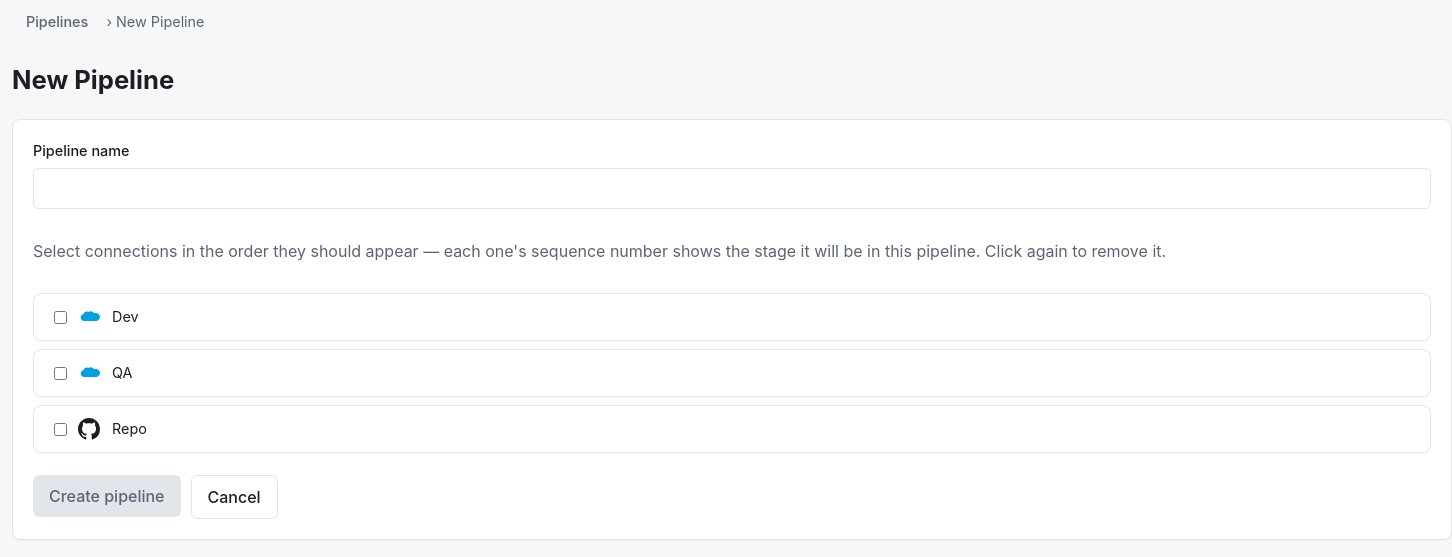
NewPipeline page › disables creation until a name is entered and at least two connections are picked
Expected: the checkbox labelled "Dev" is shown, [54,311,67,324]
Expected: the button "Create pipeline" is disabled, [33,475,180,517]
Type "Main" into the field labelled "Pipeline name" at (732, 188), box [33,168,1431,209]
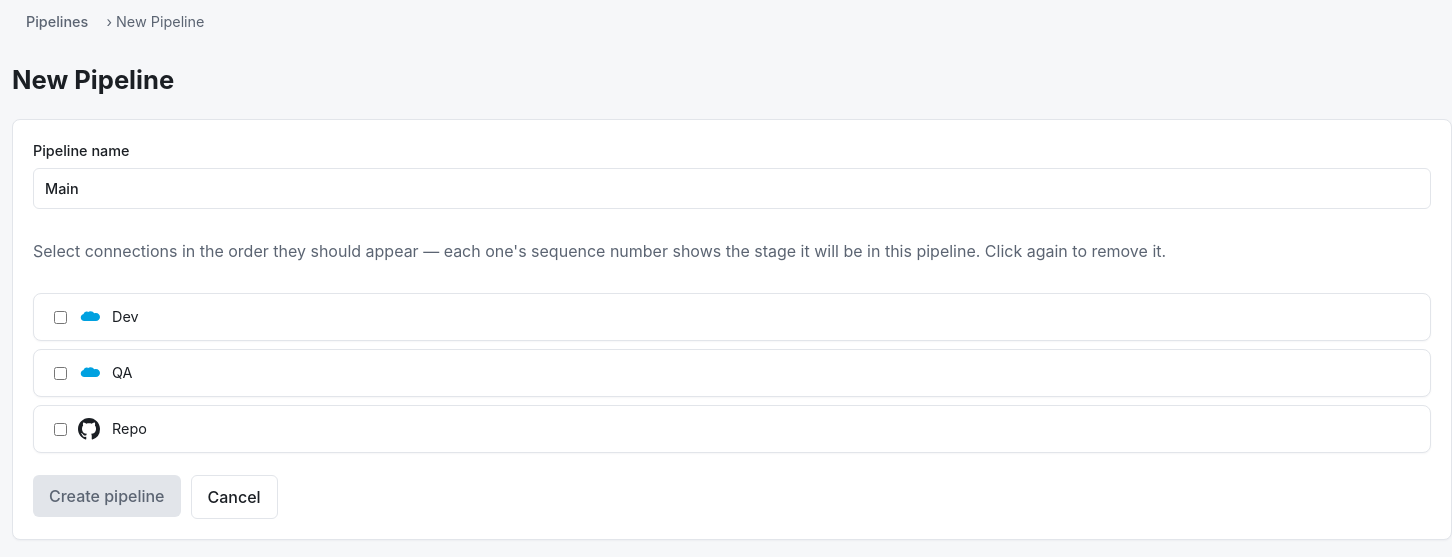
Click the checkbox labelled "Dev" at (60, 317), box [54,311,67,324]
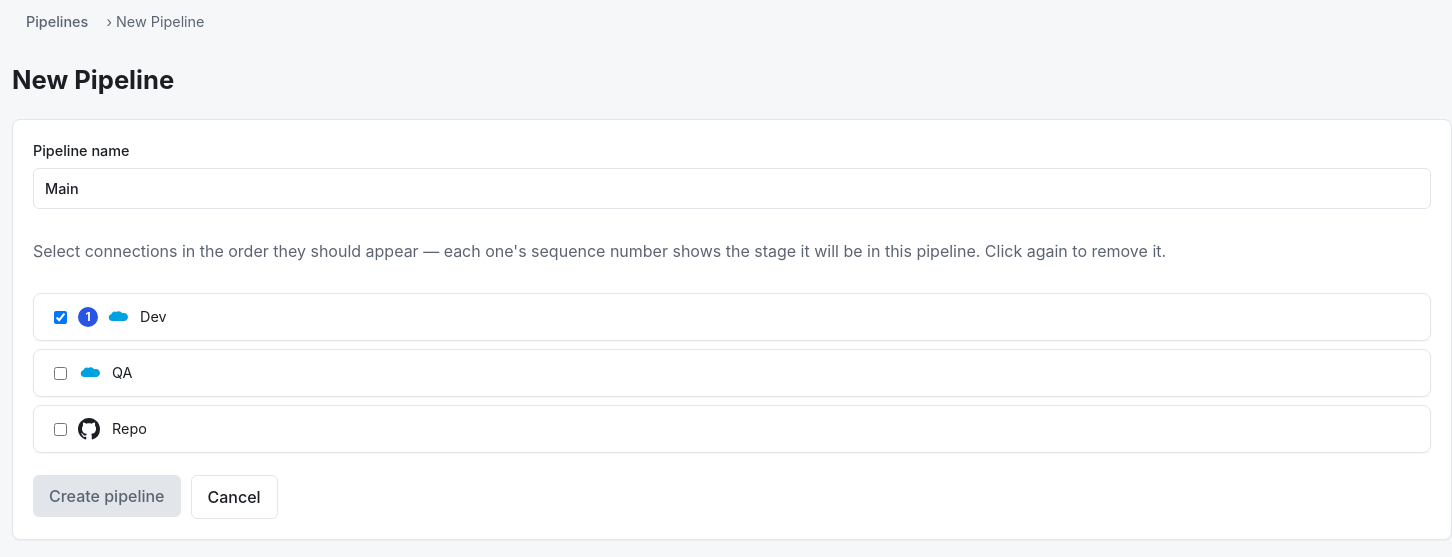
Expected: the button "Create pipeline" is disabled, [33,475,180,517]
Click the checkbox labelled "QA" at (60, 373), box [54,367,67,380]
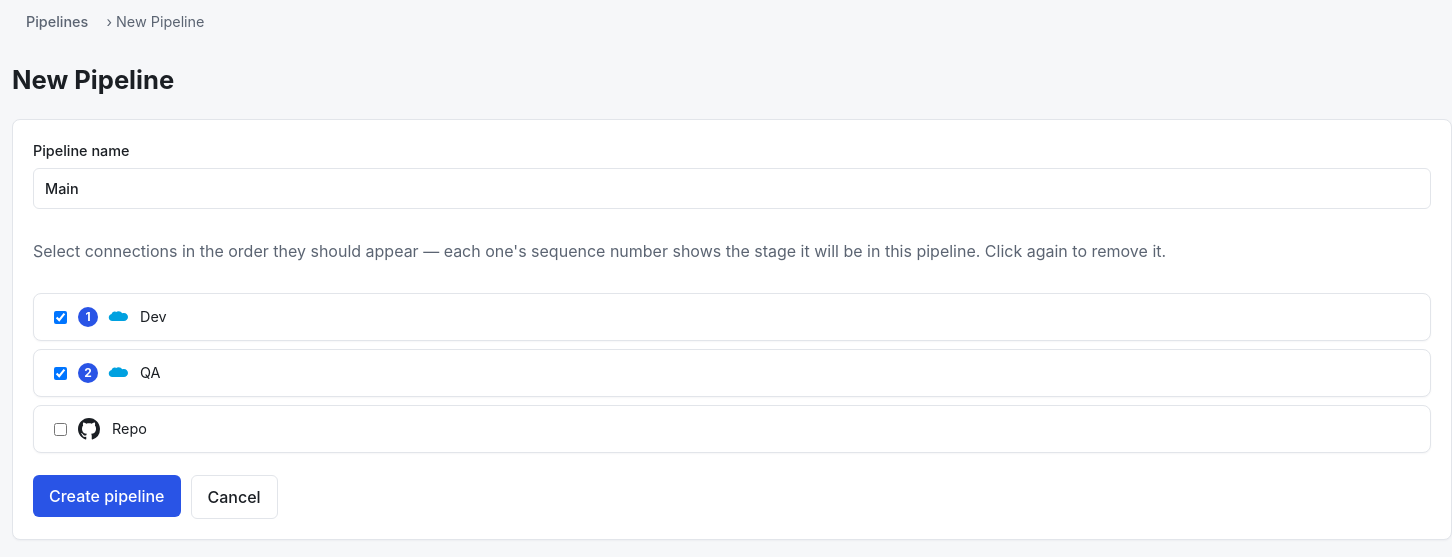
Expected: the button "Create pipeline" is enabled, [33,475,180,517]
